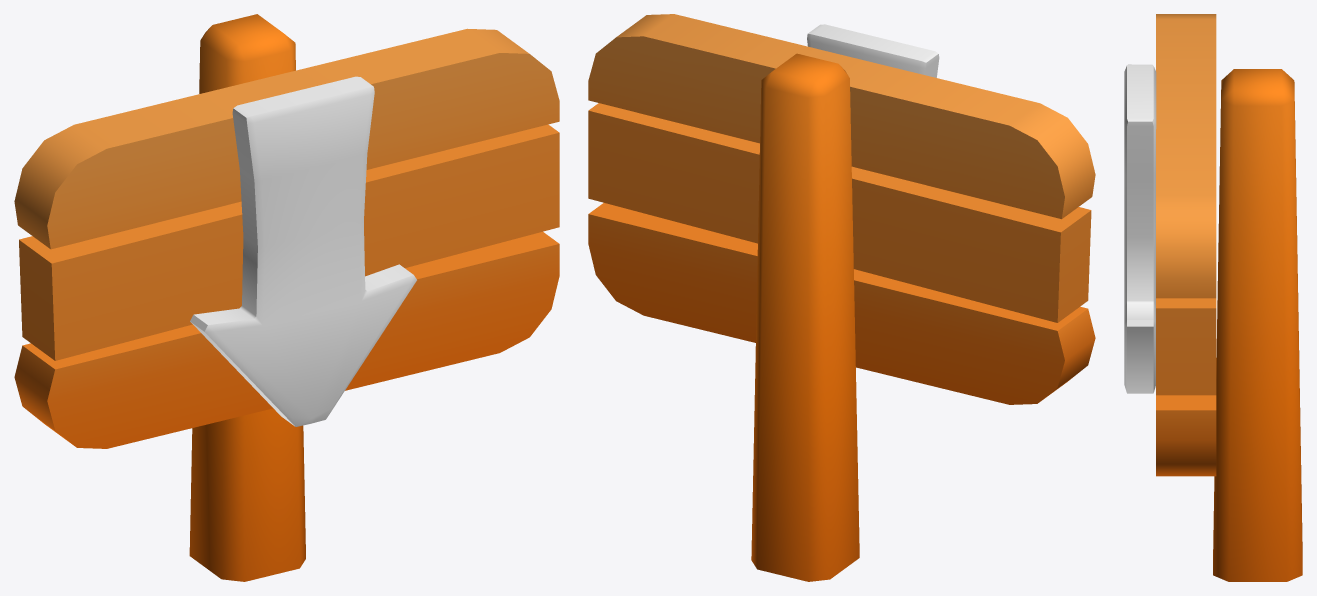
Rendered from Prop_Wooden_Sign_04.fbx.
3 renders of one model, left to right at view 1: azimuth 30°, elevation 25°; view 2: azimuth 150°, elevation 25°; view 3: azimuth 270°, elevation 25°, orthographic. The views are drawn at different scales.
Visible parts, largest first — view 1: Prop_Wooden_Sign_04; view 2: Prop_Wooden_Sign_04; view 3: Prop_Wooden_Sign_04.
Part boxes in pixels (<box>): Prop_Wooden_Sign_04: <box>14,14,559,581</box>; Prop_Wooden_Sign_04: <box>588,14,1095,581</box>; Prop_Wooden_Sign_04: <box>1124,14,1302,581</box>.
Bounding box in the file's own units: 90.11 × 88.8 × 29.65.
